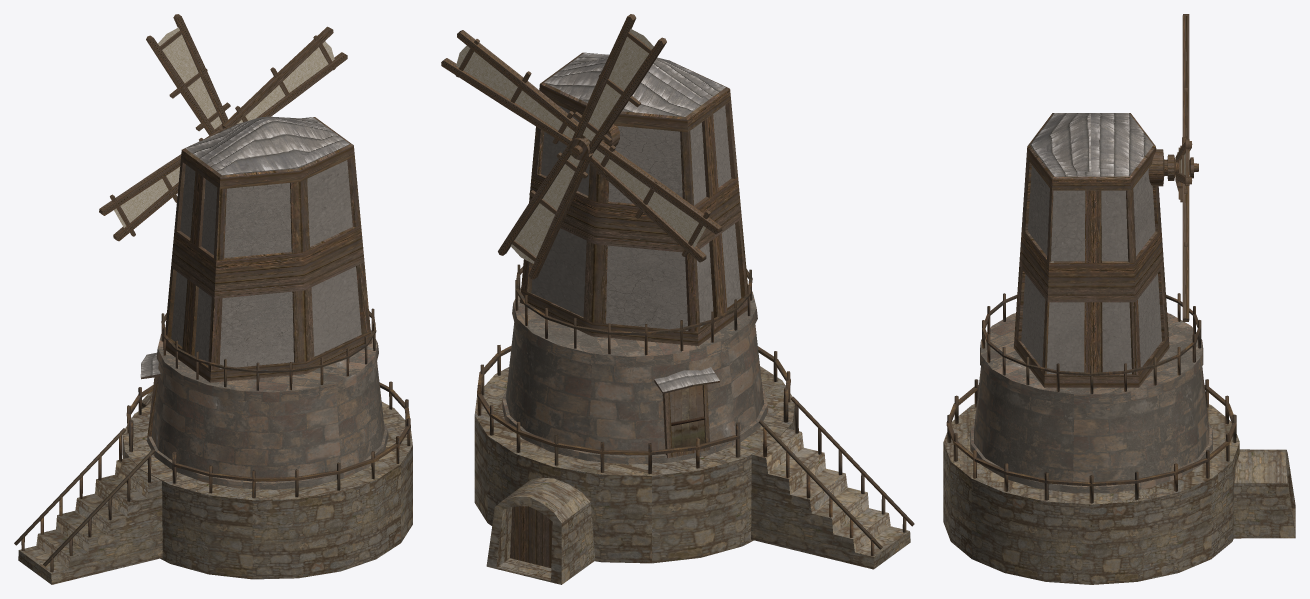
3 views of the same model, side by side, from view 1: azimuth 30°, elevation 25°; view 2: azimuth 150°, elevation 25°; view 3: azimuth 270°, elevation 25° (orthographic). The views are drawn at different scales.
Visible parts, largest first — view 1: pCube1, blades; view 2: pCube1, blades; view 3: pCube1, blades.
Boxes of the visible parts, bbox=[...] form: pCube1: bbox=[14, 116, 412, 584]; blades: bbox=[99, 14, 347, 241]; pCube1: bbox=[474, 52, 914, 584]; blades: bbox=[441, 14, 722, 279]; pCube1: bbox=[943, 113, 1295, 584]; blades: bbox=[1148, 14, 1198, 321].
Bounding box in the file's own units: 2315 × 2903 × 1904.
Materials: 8 (8 with a texture image).
